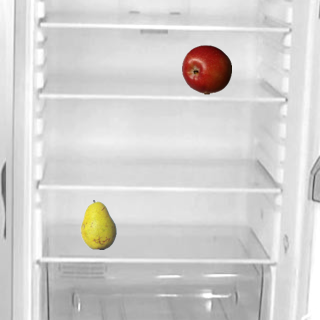Apple Braeburn: (181, 44, 231, 94)
Pear Monster: (73, 199, 123, 249)
